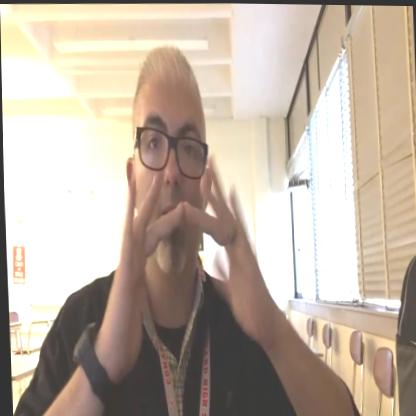Internet: (103, 153, 280, 380)
